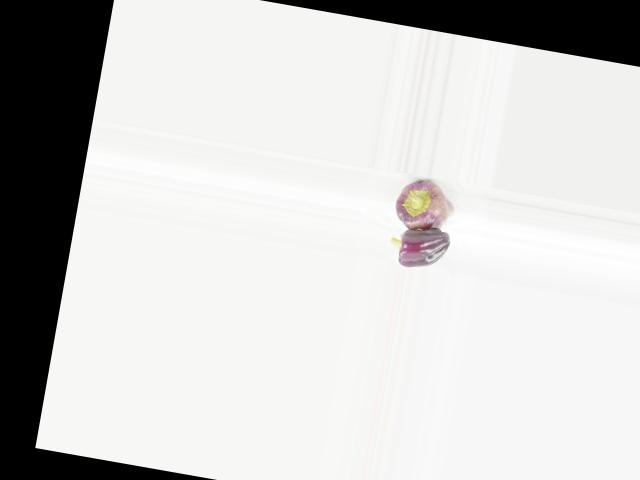bell_pepper: (380, 171, 469, 239)
